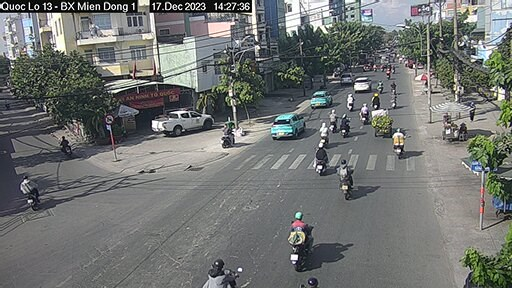car: (150, 108, 213, 137), (270, 113, 305, 140), (307, 87, 332, 108), (349, 76, 371, 95), (341, 70, 351, 86)
motorbike: (288, 215, 311, 272), (21, 176, 51, 211), (333, 163, 355, 199), (306, 146, 333, 175), (220, 125, 239, 153), (393, 132, 410, 157), (339, 112, 351, 137)
